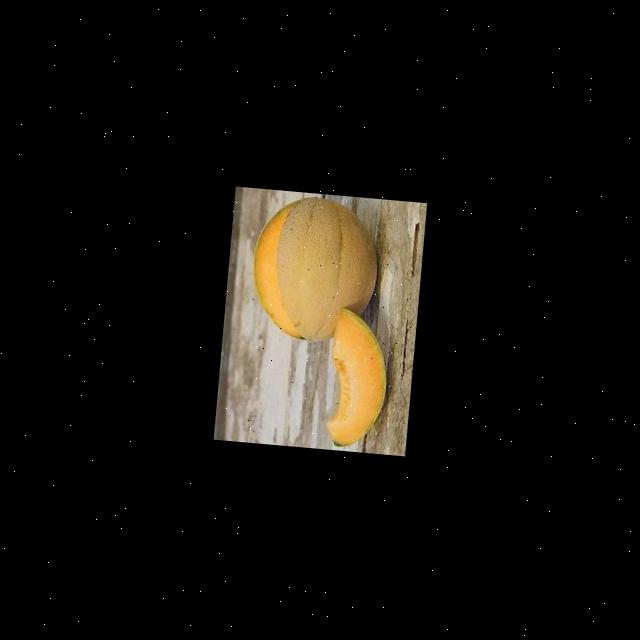Hami Melon: (244, 191, 382, 345), (323, 306, 392, 449)
